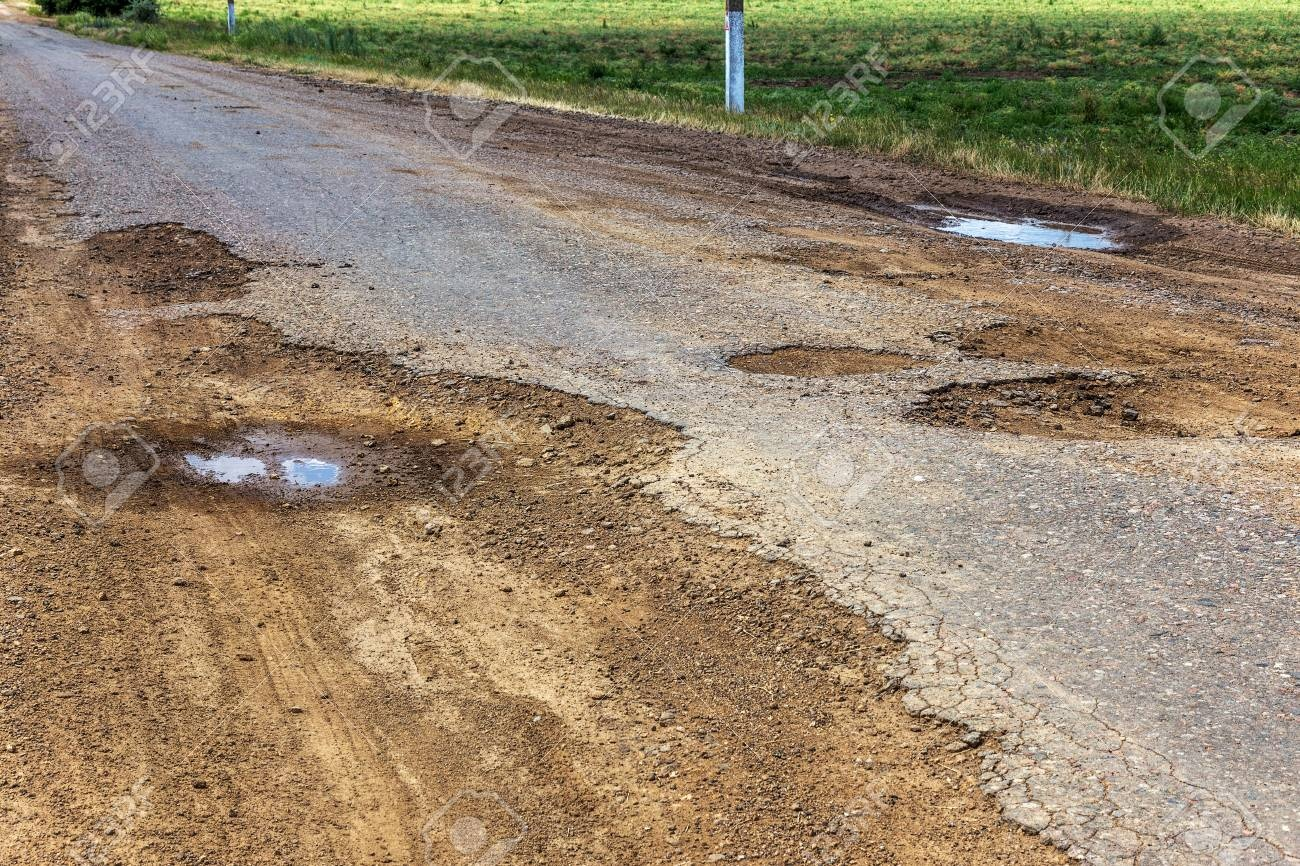pothole: (680, 296, 1269, 476), (73, 365, 477, 569)
